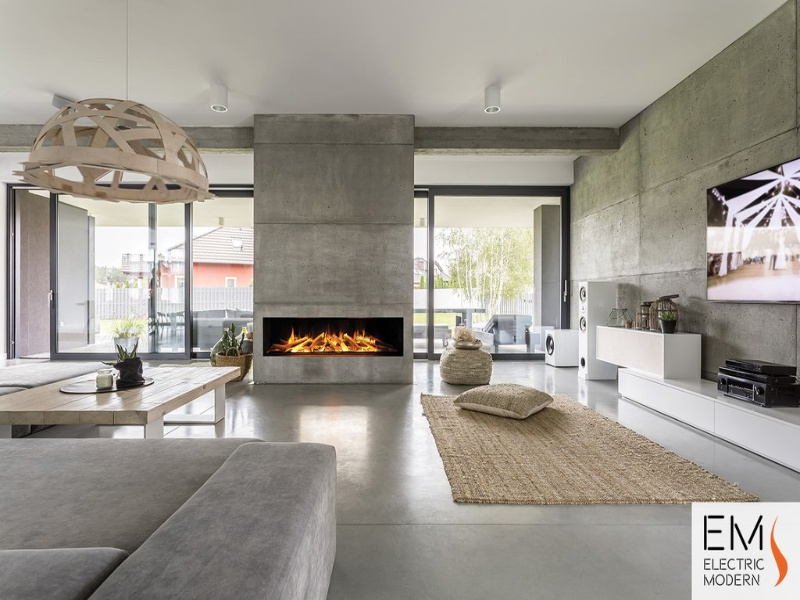fire: (287, 326, 378, 350)
